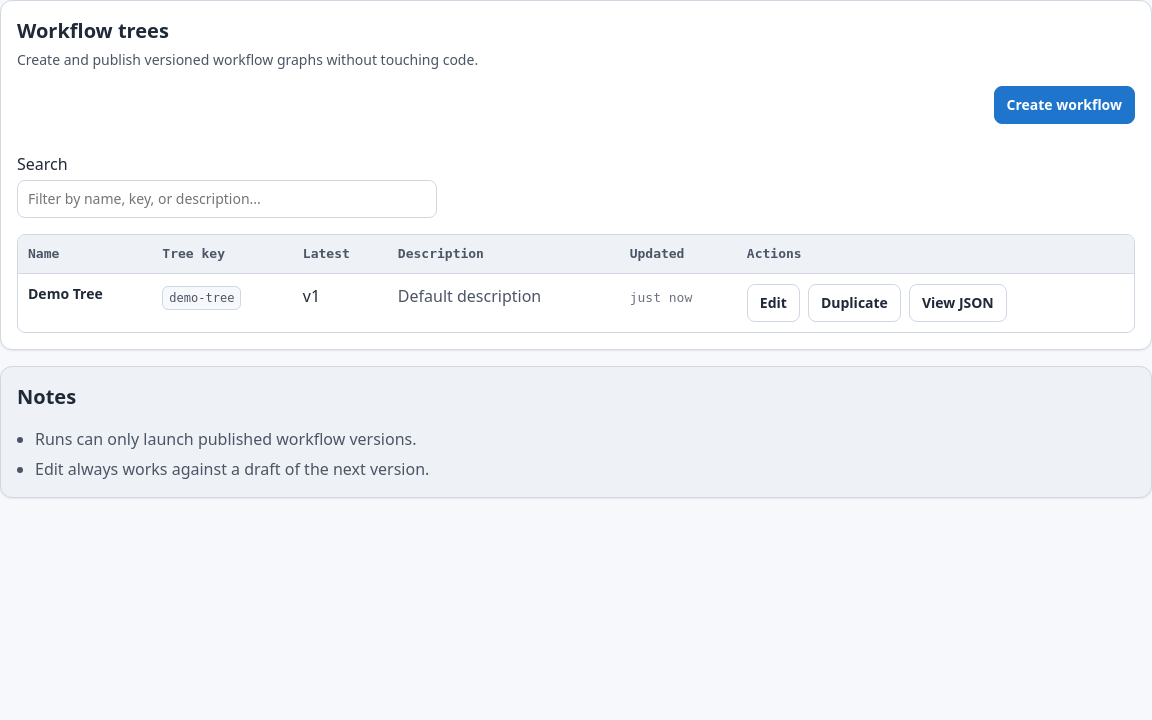
Test: WorkflowsPageContent › surfaces API error payloads when duplication fails
The width and height of the screenshot is (1152, 720).
Click the button "Duplicate".
click(854, 303)  # box [808,284,901,322]
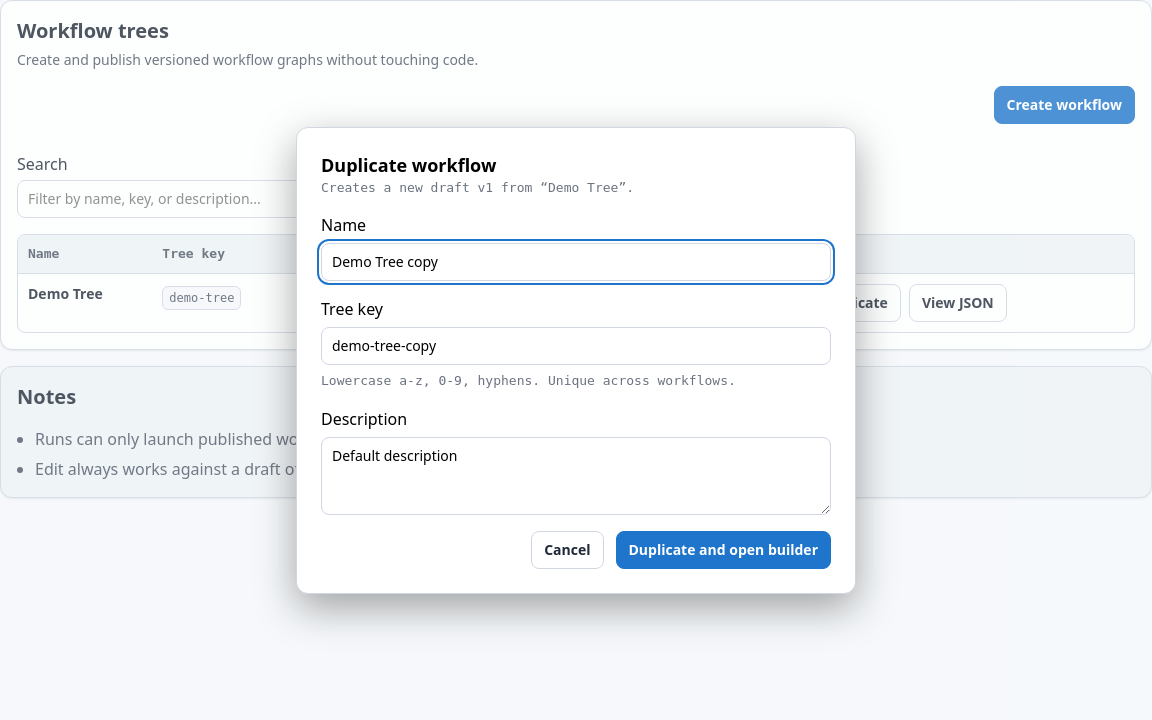
Click the button "Duplicate and open builder".
click(723, 550)  # box [616,530,831,568]
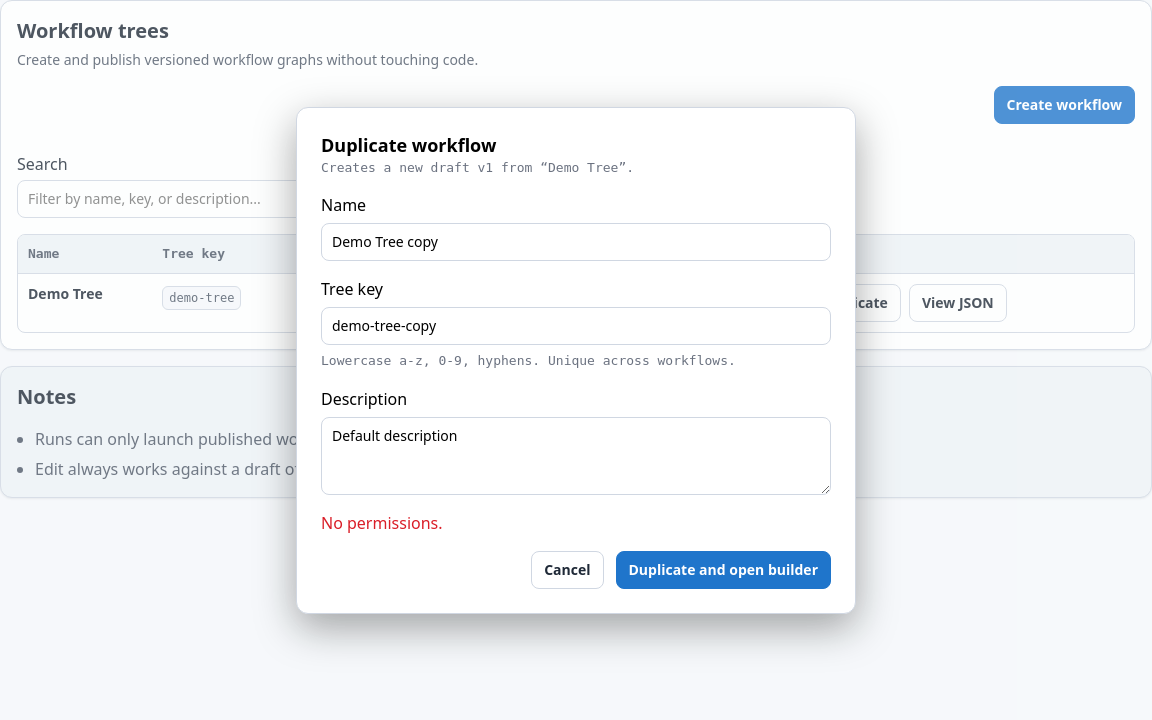
Result: the message reads "No permissions." at [321,512,442,534]
